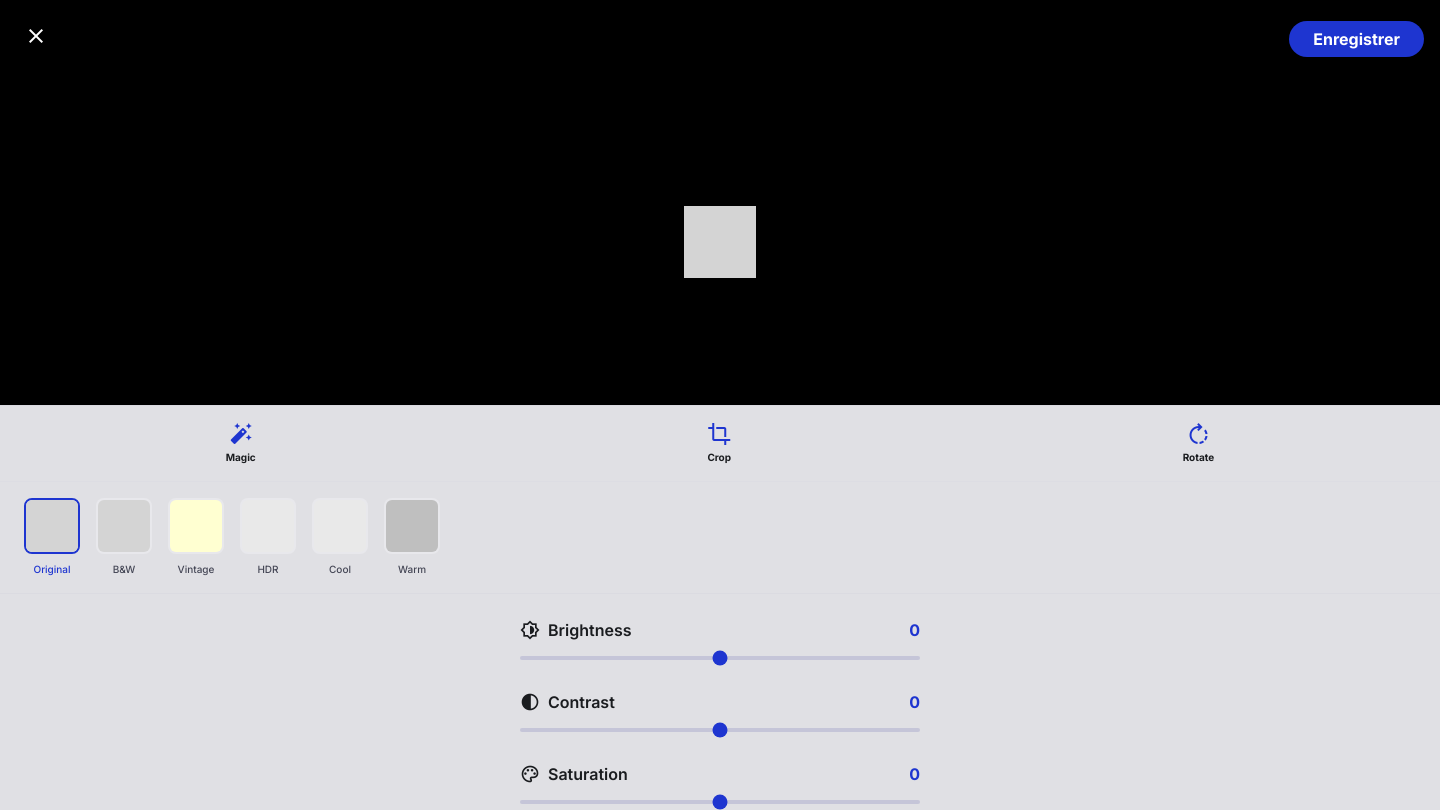
Test: Editor Component › applies magic adjustments
Click the button "Magic". click: (241, 444)
box: [226,422,256,465]
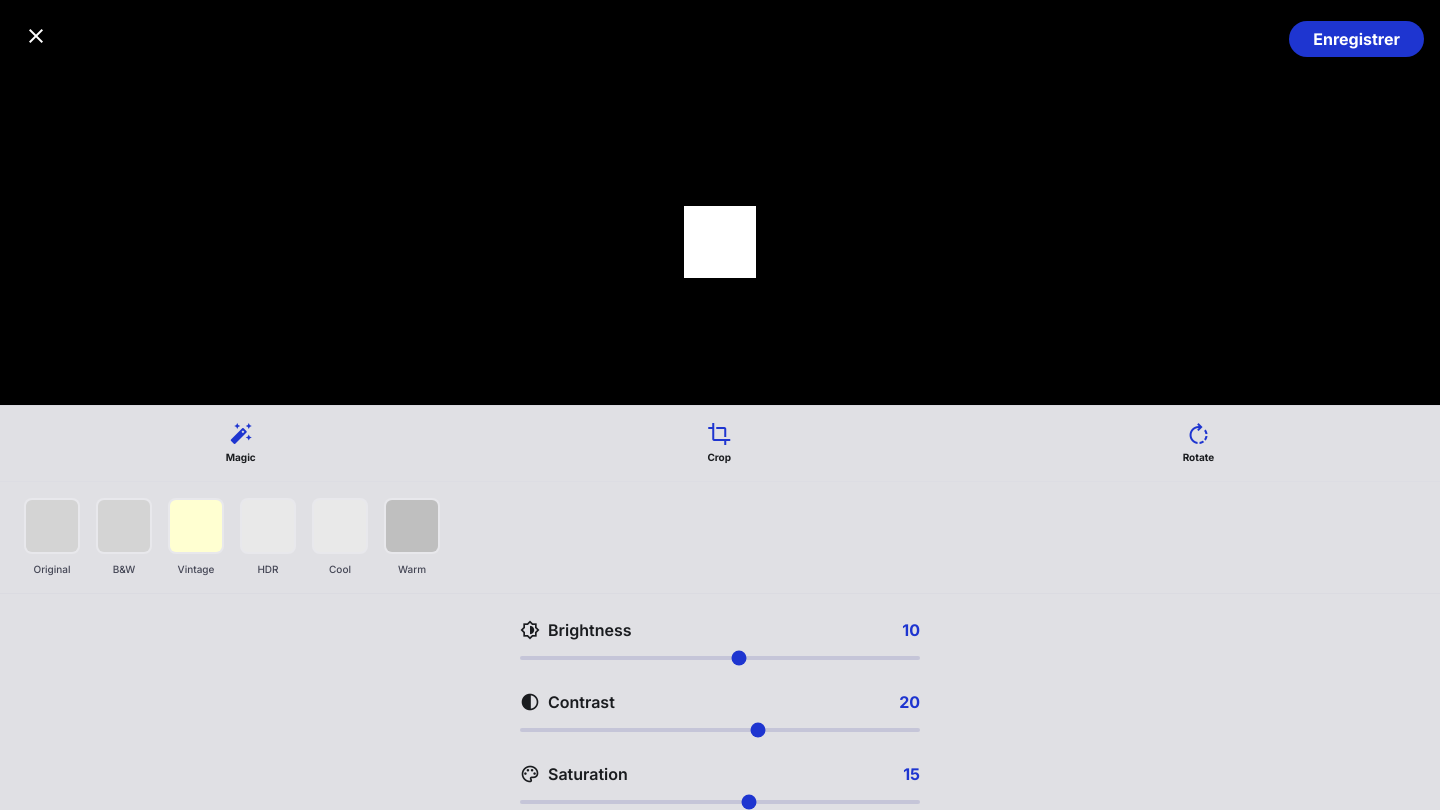
expect the text "10" is shown: met, box [902,618,920,642]
expect the text "20" is shown: met, box [899,690,920,714]
expect the text "15" is shown: met, box [903,762,920,786]
